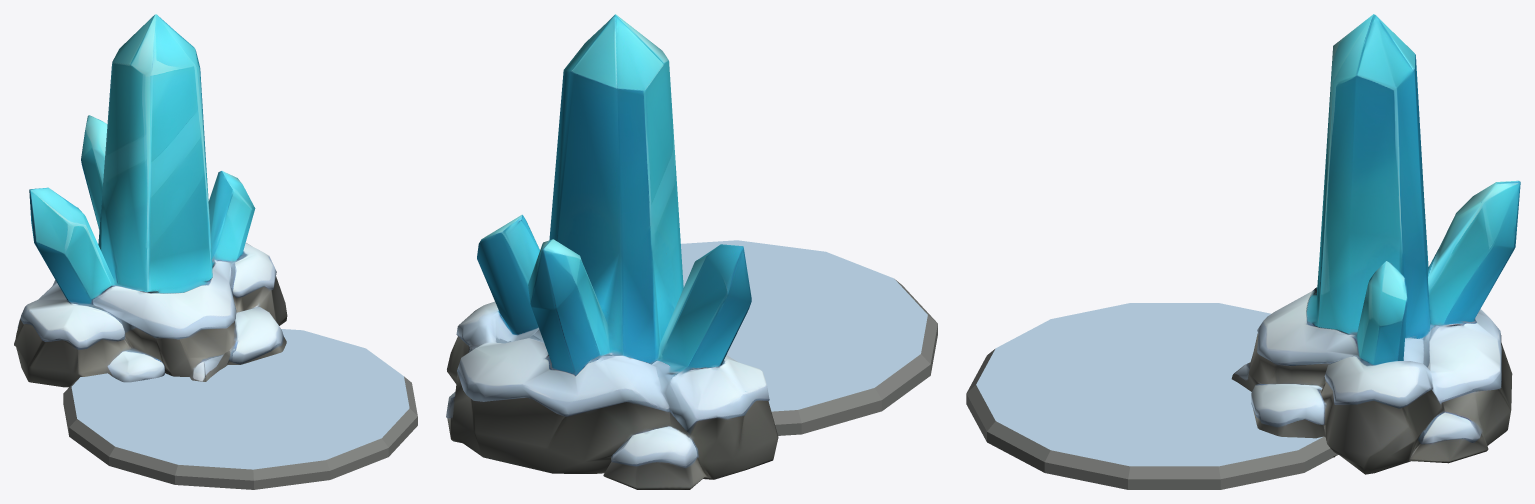
3 renders of one model, left to right at view 1: azimuth 30°, elevation 25°; view 2: azimuth 150°, elevation 25°; view 3: azimuth 270°, elevation 25°, orthographic. The views are drawn at different scales.
Visible parts, largest first — view 1: glacier-landmark; view 2: glacier-landmark; view 3: glacier-landmark.
Boxes of the visible parts, <box> form: glacier-landmark: <box>14,14,417,489</box>; glacier-landmark: <box>446,14,937,489</box>; glacier-landmark: <box>966,14,1520,489</box>.
Size of the model in its own units: 2.63 by 2.8 by 3.6.
Materials: 1 (1 with a texture image).
